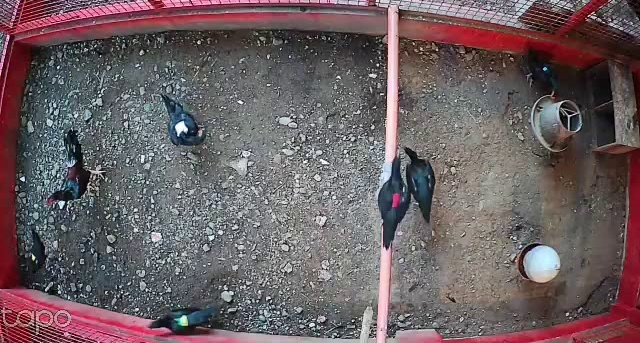Chicken: (377, 148, 419, 250), (399, 141, 445, 227), (159, 89, 214, 150), (141, 301, 228, 339), (520, 46, 562, 101), (19, 225, 53, 274)
Rooster: (47, 124, 107, 205)
Saddle_Color_Blue: (542, 66, 548, 72)
Saddle_Color_Red: (390, 192, 402, 208)
Saddle_Color_White: (175, 120, 191, 137)
Saddle_Color_Yellow: (28, 252, 39, 264)
Saddle_Color_YellowGreen: (174, 313, 190, 327)
